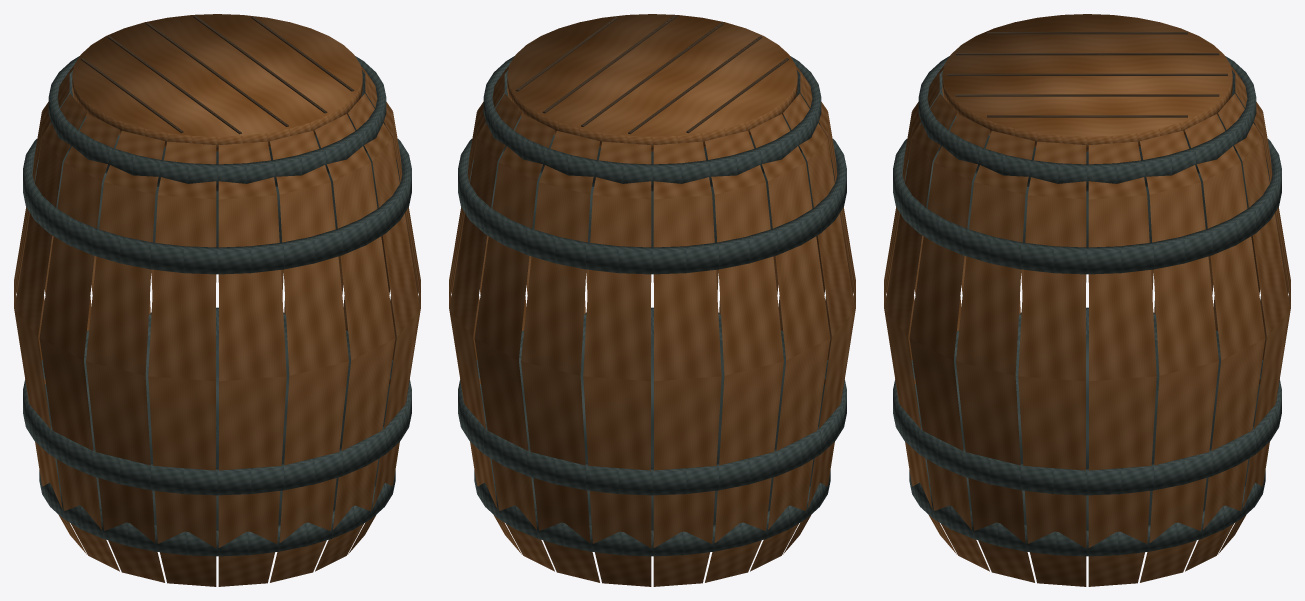
File: cargo_barrel.glb
The picture shows the model from 3 angles, left to right: view 1: azimuth 30°, elevation 25°; view 2: azimuth 150°, elevation 25°; view 3: azimuth 270°, elevation 25°; orthographic projection.
Visible parts, largest first — view 1: cargo_barrel_Joinery, cargo_barrel_Metalwork; view 2: cargo_barrel_Joinery, cargo_barrel_Metalwork; view 3: cargo_barrel_Joinery, cargo_barrel_Metalwork.
Boxes of the visible parts, x1,y1,x2,y2 form: cargo_barrel_Joinery: [14, 14, 420, 586]; cargo_barrel_Metalwork: [23, 56, 411, 556]; cargo_barrel_Joinery: [449, 14, 855, 586]; cargo_barrel_Metalwork: [458, 56, 846, 556]; cargo_barrel_Joinery: [884, 14, 1290, 586]; cargo_barrel_Metalwork: [893, 56, 1281, 556].
Size of the model in its own units: 0.88 by 1.06 by 0.8677.
Materials: 2 (2 with a texture image).
